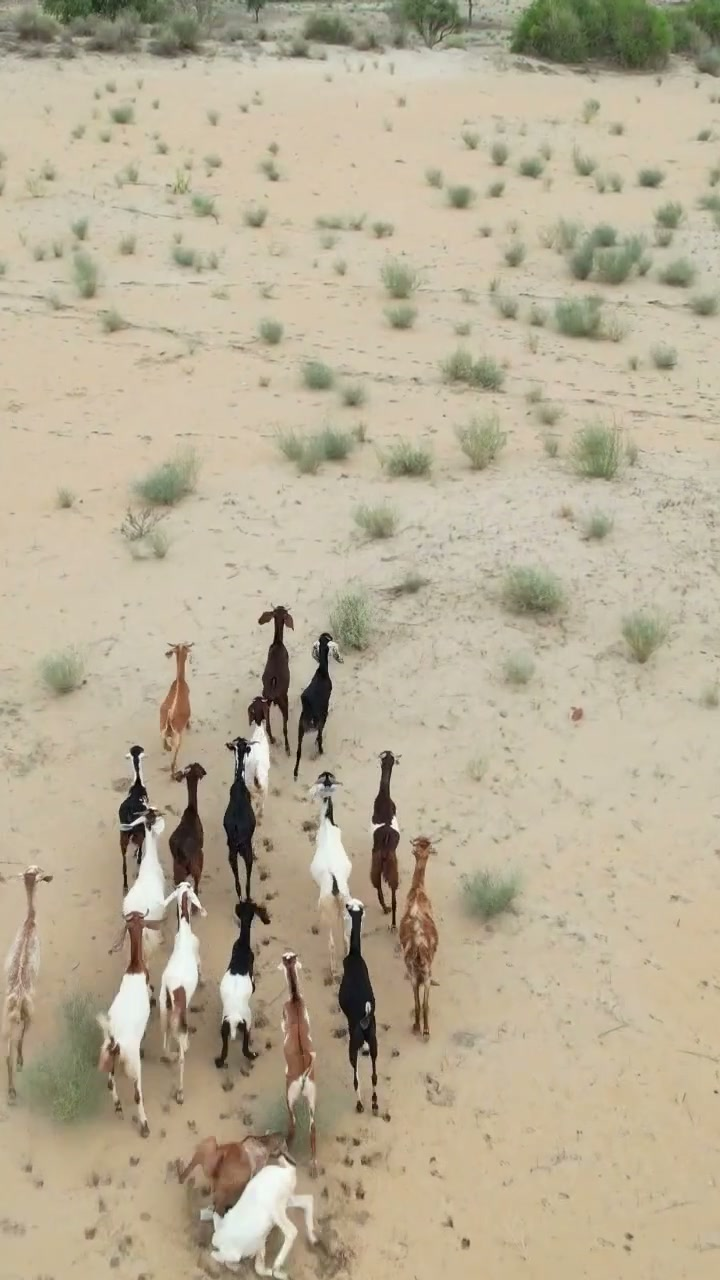animal_foot_print: (327, 1104, 497, 1265), (18, 1119, 191, 1271)
